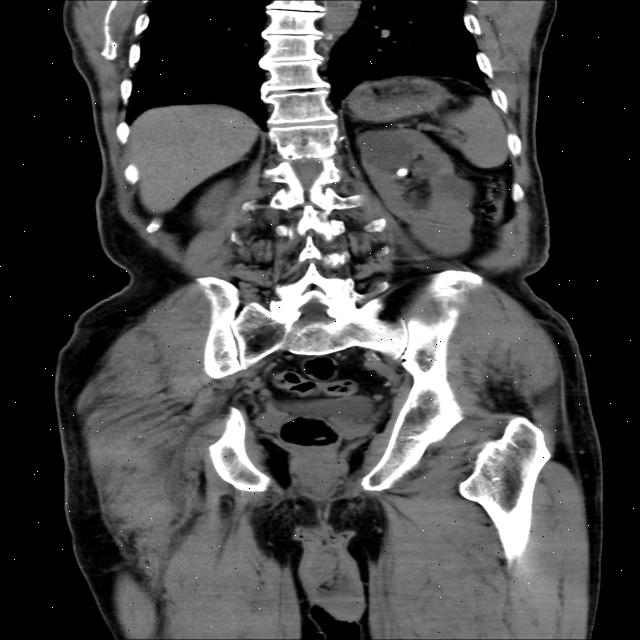kidneystone: (396, 168, 408, 178)
